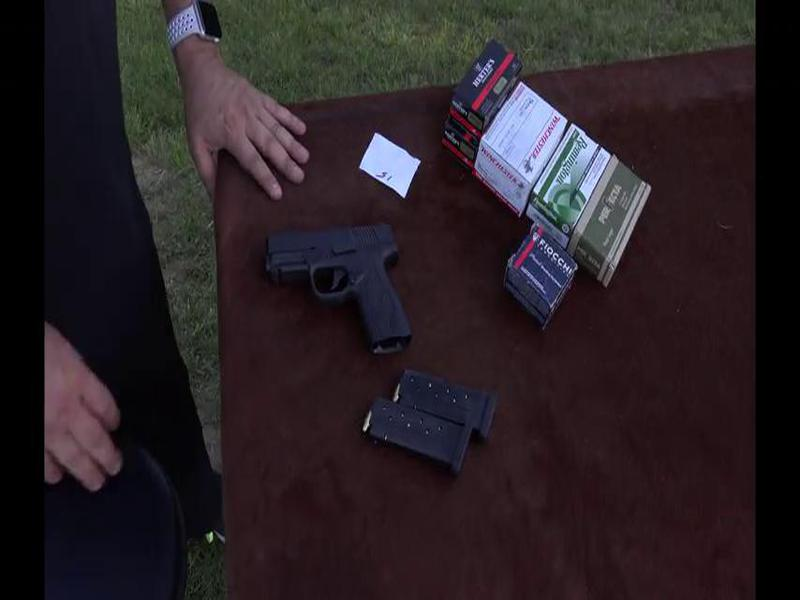Pistola: (265, 243, 431, 364)
